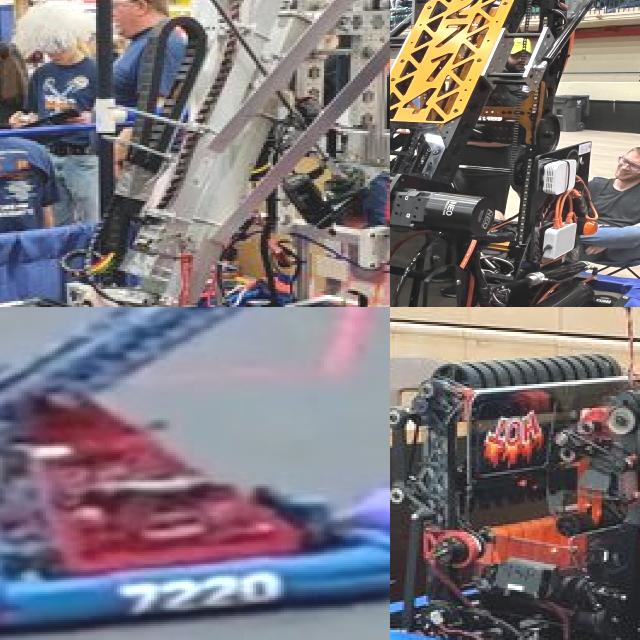FRC-Robots: (0, 307, 390, 636), (0, 0, 390, 307), (390, 307, 640, 640), (390, 0, 640, 307)
